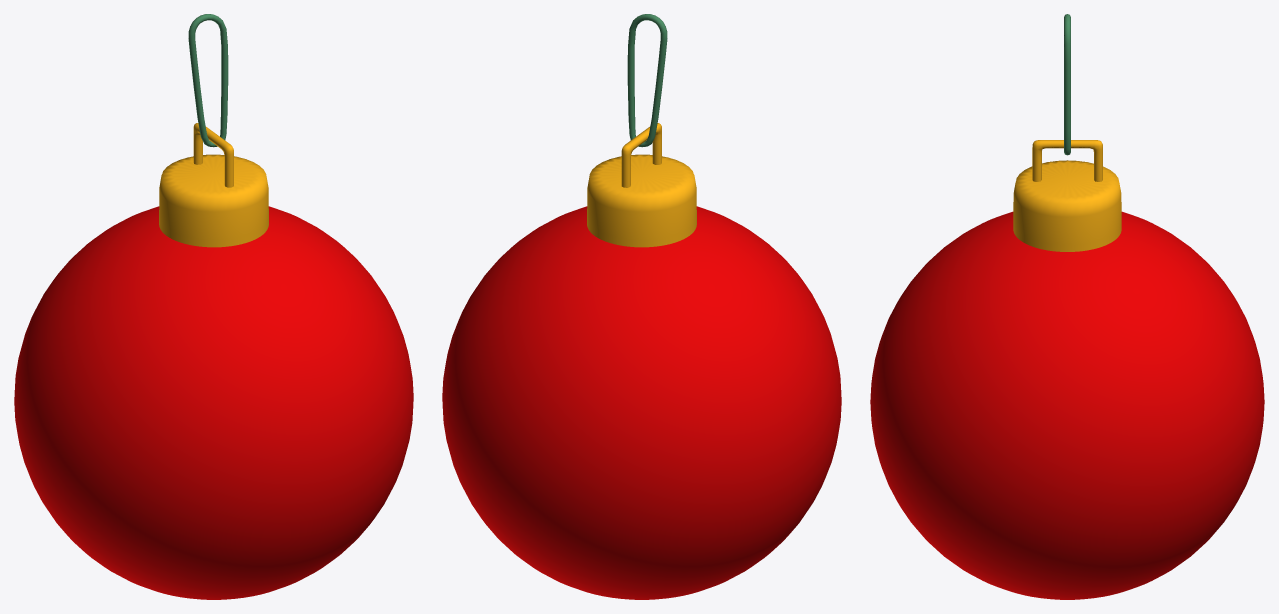
The model's file is ornaments3.fbx.
3 renders of one model, left to right at view 1: azimuth 30°, elevation 25°; view 2: azimuth 150°, elevation 25°; view 3: azimuth 270°, elevation 25°, orthographic.
Parts seen in each view (by area): view 1: Sphere; view 2: Sphere; view 3: Sphere.
Part boxes in pixels (x1,y1,x2,y2): Sphere: (14, 14, 413, 599); Sphere: (442, 14, 841, 599); Sphere: (870, 14, 1264, 599).
Bounding box in the file's own units: 19.74 × 31.07 × 19.74.
